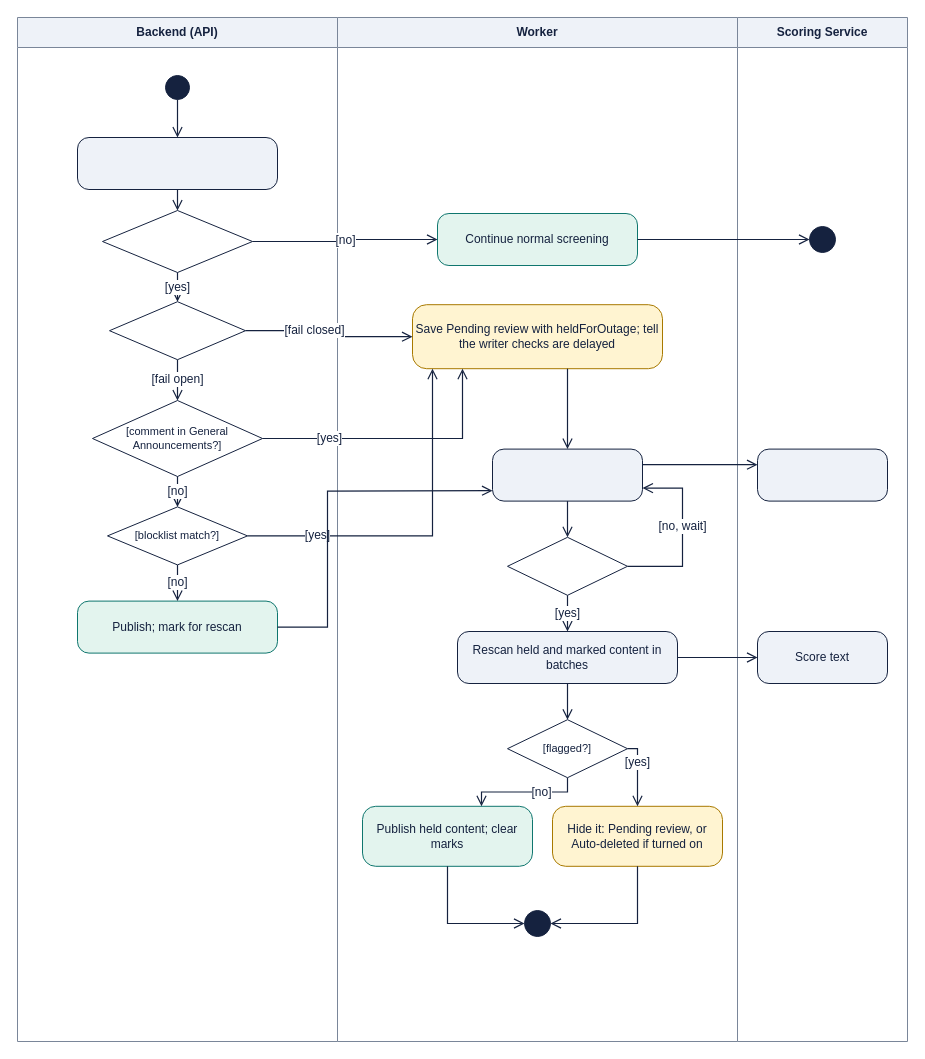
The diagram is 925 pixels wide and 1059 high, and some of its shapes have lost their labels. The shapes that lost their labels are listed below. From the top down, each one's centre as x and y in pixels, then its label:
At (177,163): "Call model for a submission".
At (177,241): "[timeout or error?]".
At (177,330): "[outage policy?]".
At (567,474): "Poll model health".
At (822,474): "Answer /health".
At (567,565): "[healthy?]".
